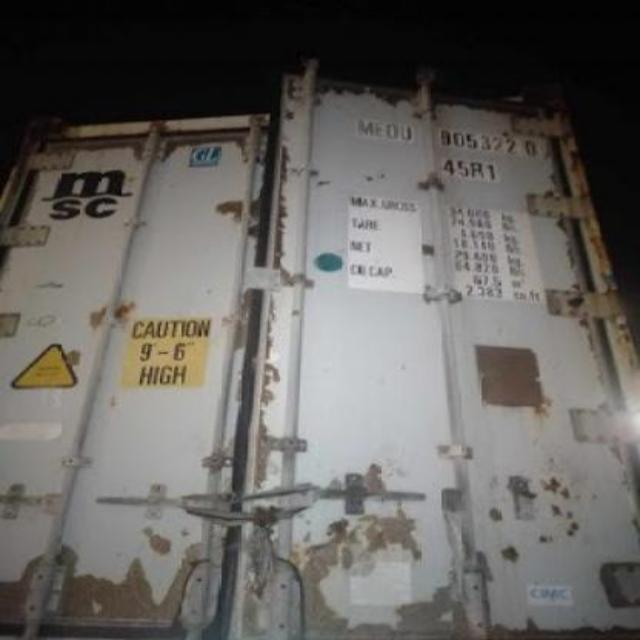0: (526, 139, 546, 159), (454, 128, 466, 152)
2: (508, 132, 522, 160), (492, 134, 506, 156)
3: (482, 130, 492, 154)
5: (464, 126, 480, 152)
9: (438, 124, 450, 146)
D: (384, 122, 398, 144)
E: (374, 118, 386, 144)
M: (352, 115, 373, 141)
U: (398, 117, 418, 149)
